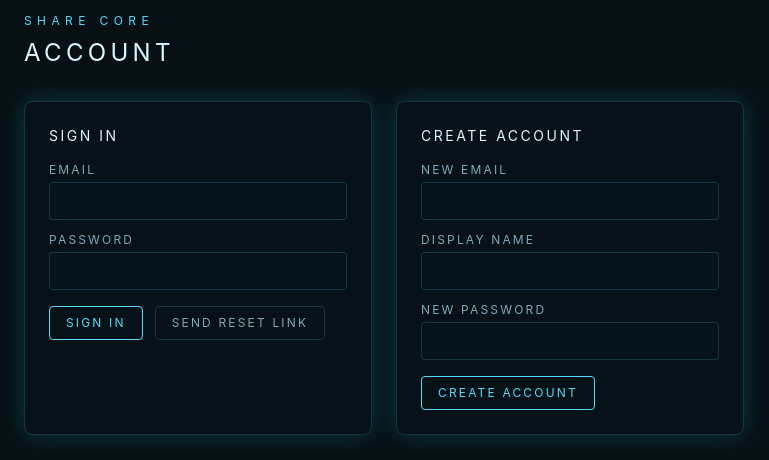
AccountPage anonymous forms › shows the server error message when login fails
Type "ada@example.com" into the field labelled "Email" at [198, 201], box [49,182,347,220]
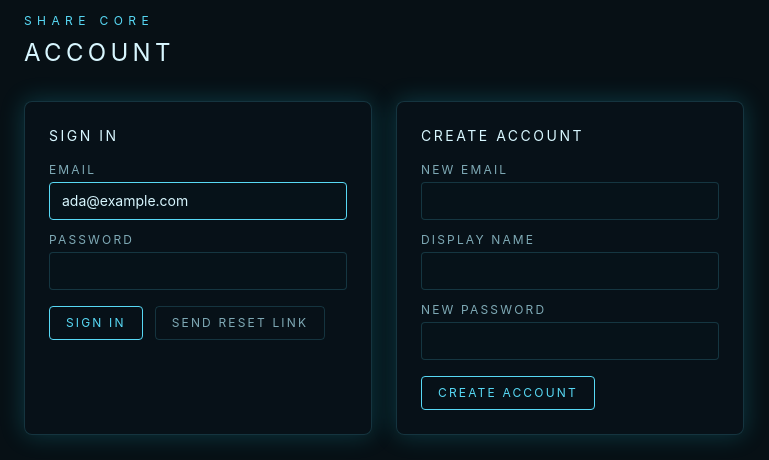
Type "wrong-password" into the password field labelled "Password" at [198, 271], box [49,252,347,290]
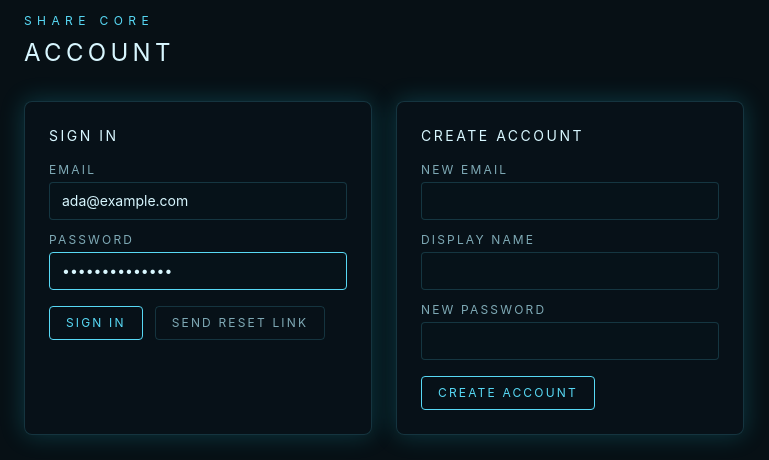
Click the button "Sign In" at [96, 323], box [49,306,143,340]
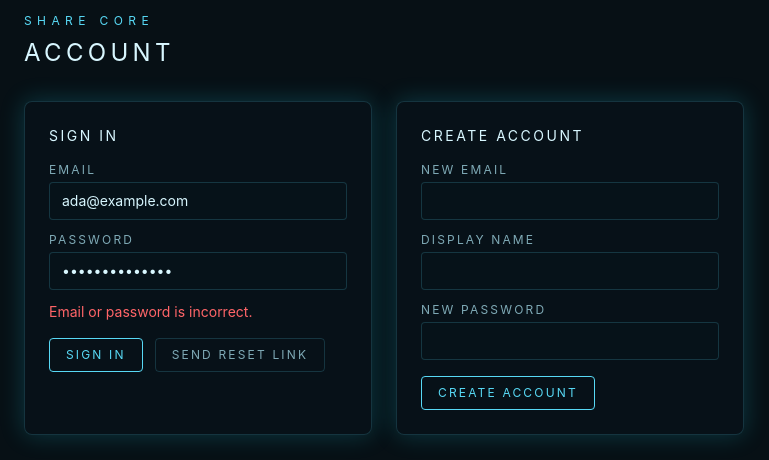
Result: the text "Email or password is incorrect." is shown at [49,303,252,320]
